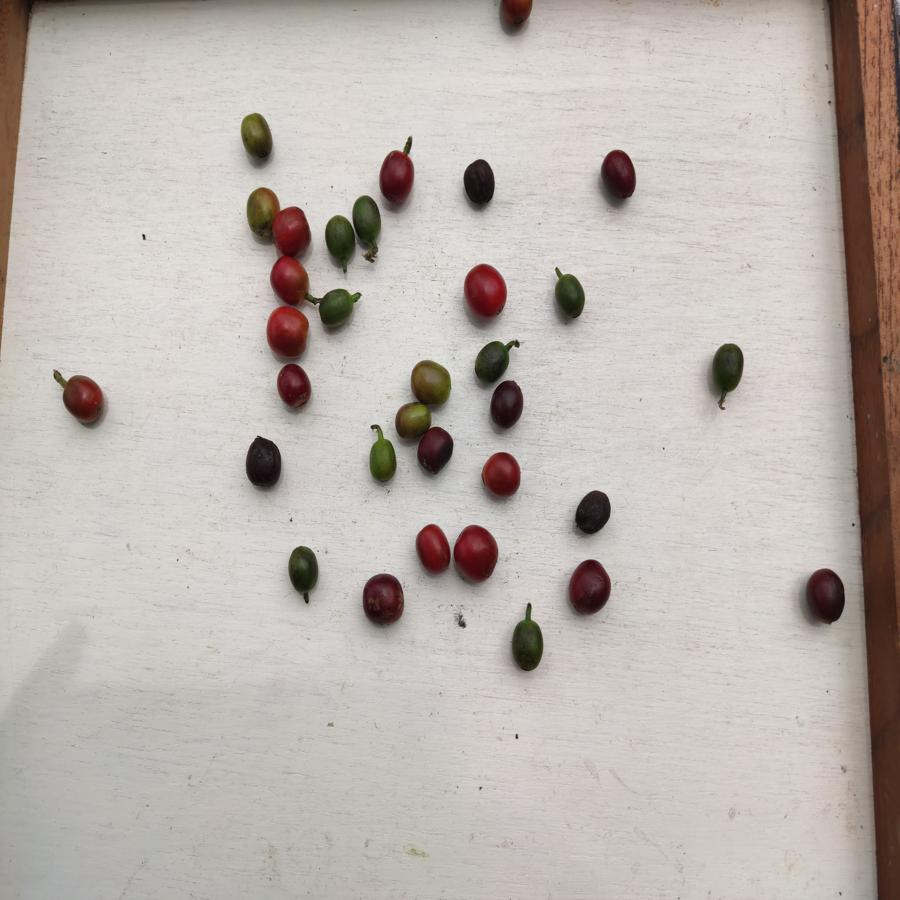Inmaduro: (286, 544, 319, 607), (350, 194, 383, 246), (511, 620, 545, 670), (472, 341, 513, 382), (711, 343, 746, 390), (324, 215, 357, 262), (318, 287, 353, 330), (555, 273, 585, 320), (370, 439, 397, 482)
Maduro: (453, 522, 499, 583), (462, 259, 508, 317), (265, 307, 313, 358), (268, 254, 311, 308), (479, 450, 523, 498), (414, 520, 451, 574), (273, 205, 311, 256), (277, 362, 311, 409), (498, 1, 534, 28)
Pinton: (59, 374, 104, 423), (412, 359, 452, 405), (237, 111, 274, 158), (245, 186, 274, 241), (394, 400, 433, 431)
Sobremaduro: (805, 564, 848, 629), (567, 560, 613, 617), (363, 571, 404, 628), (378, 146, 415, 207), (245, 437, 284, 493), (599, 150, 640, 201), (415, 425, 456, 476), (573, 489, 613, 536), (489, 380, 526, 428), (463, 157, 495, 208)
